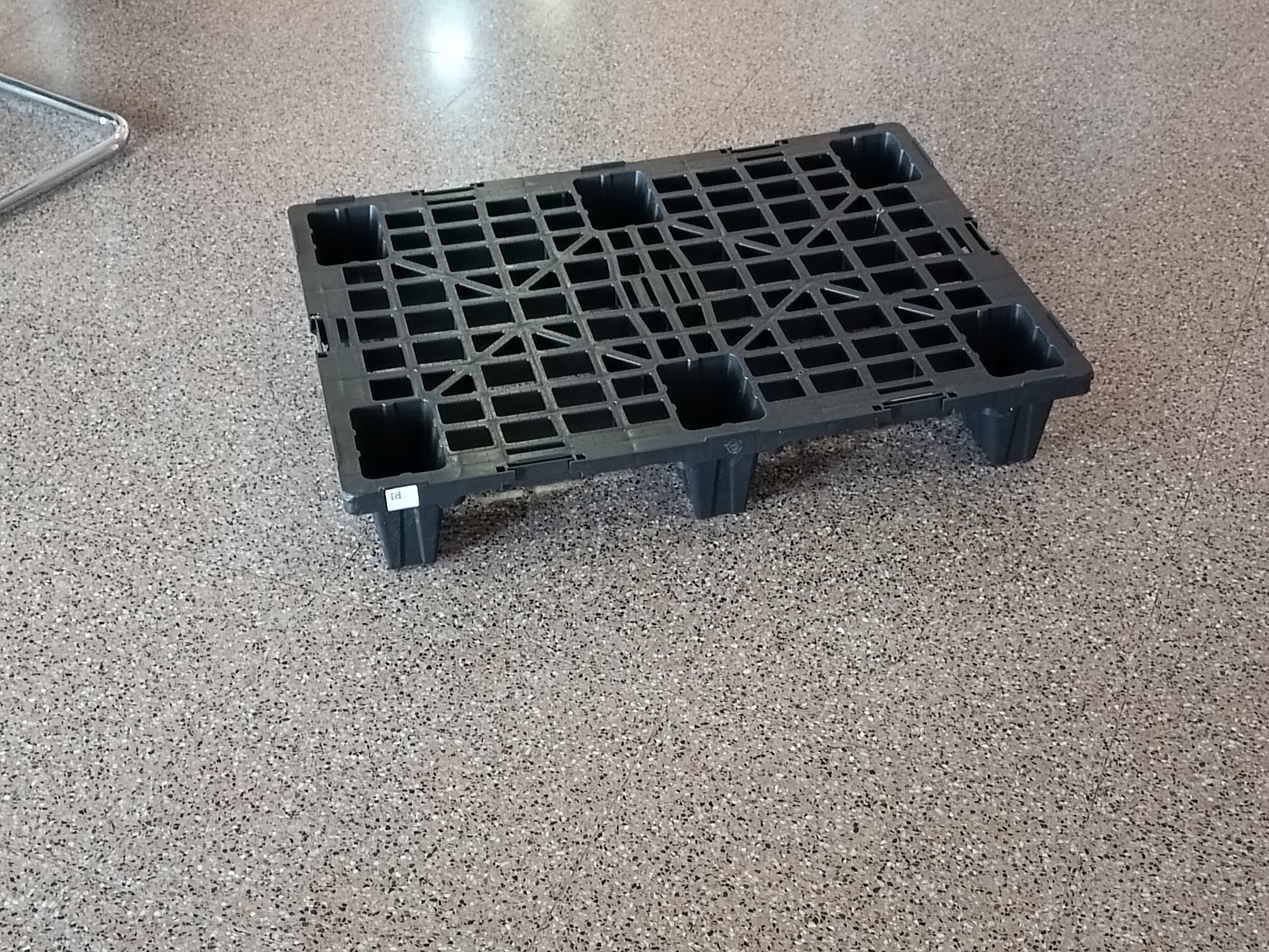block: (985, 369, 1088, 467), (354, 476, 456, 569), (679, 434, 770, 522)
front: (358, 374, 1098, 571)
hole pallet: (437, 456, 697, 561), (747, 405, 992, 515)
